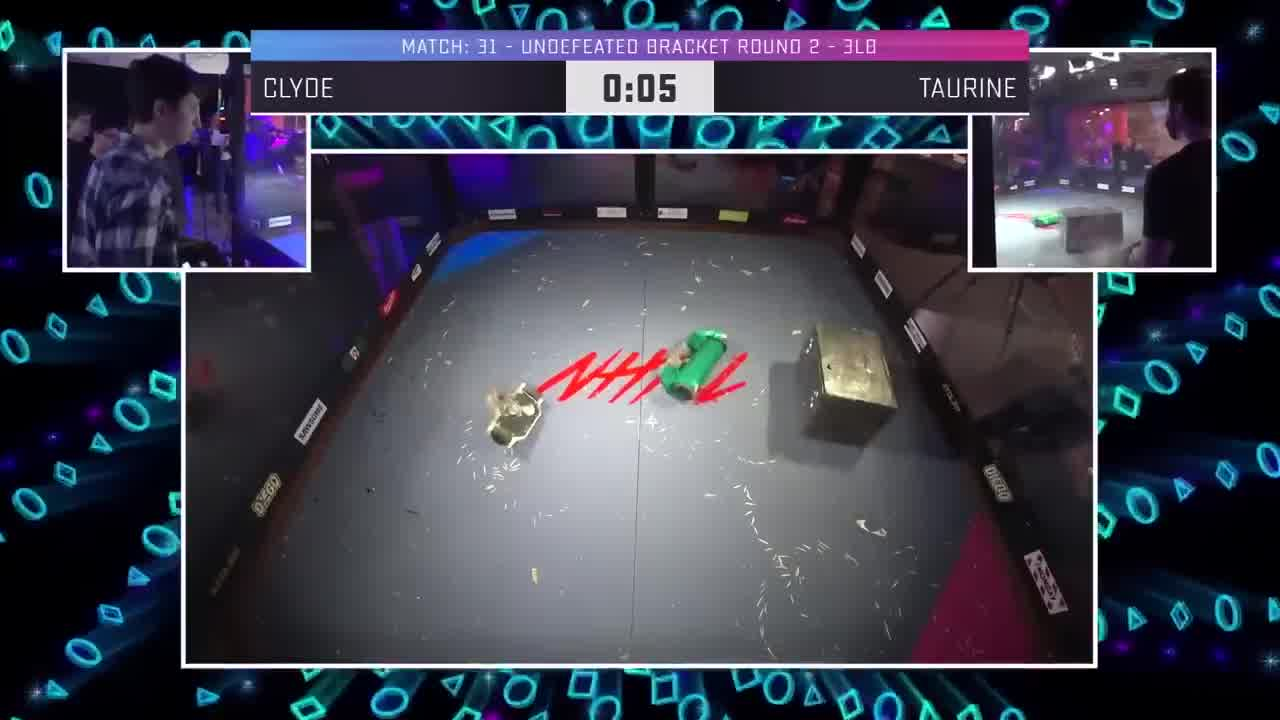combatbot: (661, 329, 728, 399), (485, 384, 545, 451)
housebot: (800, 326, 897, 447)
